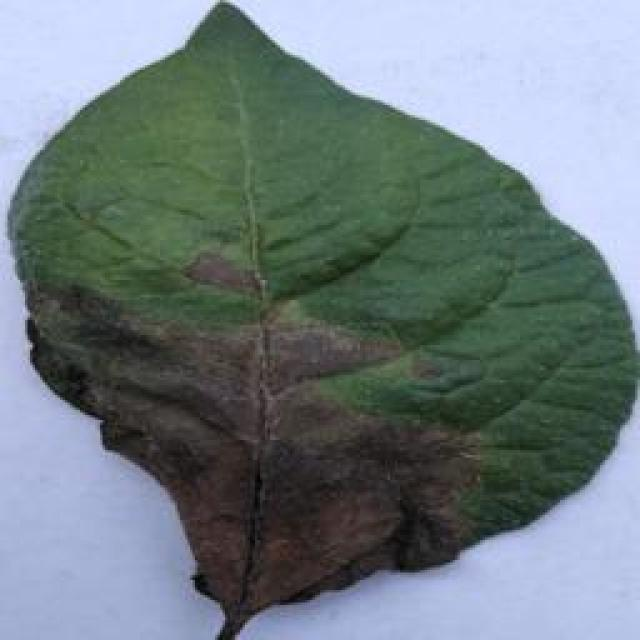Potato_Late_Blight: (0, 7, 632, 635)
